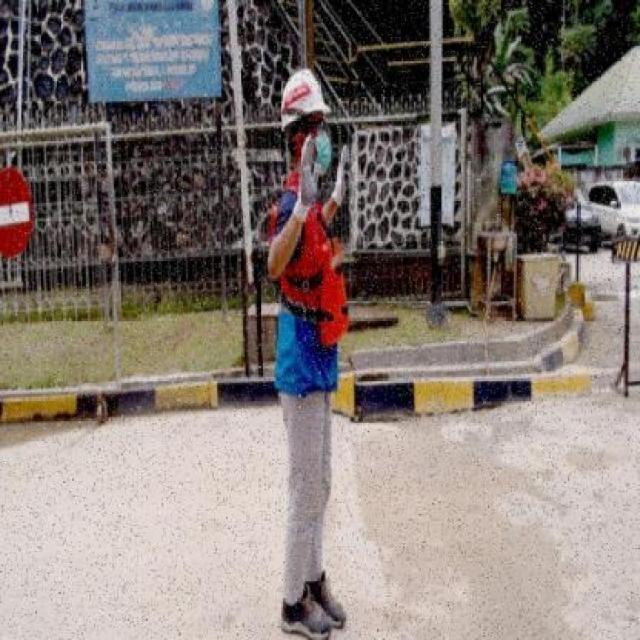apron: (292, 133, 322, 222), (328, 144, 352, 208)
